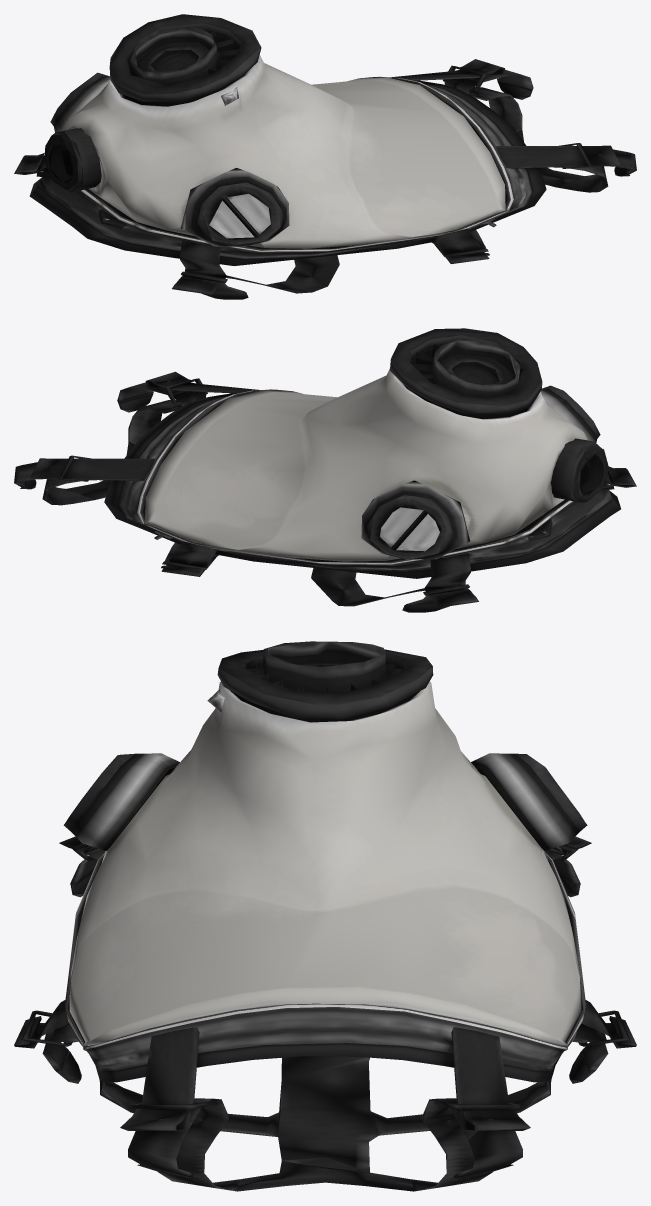
Rendered from ChemicalMask_Ground.fbx.
The picture shows the model from 3 angles, top to bottom: view 1: azimuth 30°, elevation 25°; view 2: azimuth 150°, elevation 25°; view 3: azimuth 270°, elevation 25°; orthographic projection. The views are drawn at different scales.
Visible parts, largest first — view 1: clearFaceMask; view 2: clearFaceMask; view 3: clearFaceMask.
Boxes of the visible parts, <box> form: clearFaceMask: <box>14,14,636,299</box>; clearFaceMask: <box>14,328,636,612</box>; clearFaceMask: <box>14,641,636,1191</box>.
Bounding box in the file's own units: 0.1873 × 0.075 × 0.1357.
